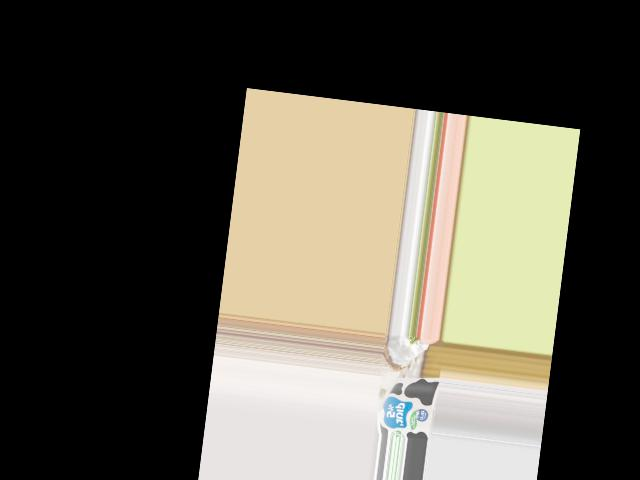cotage: (376, 374, 439, 441)
